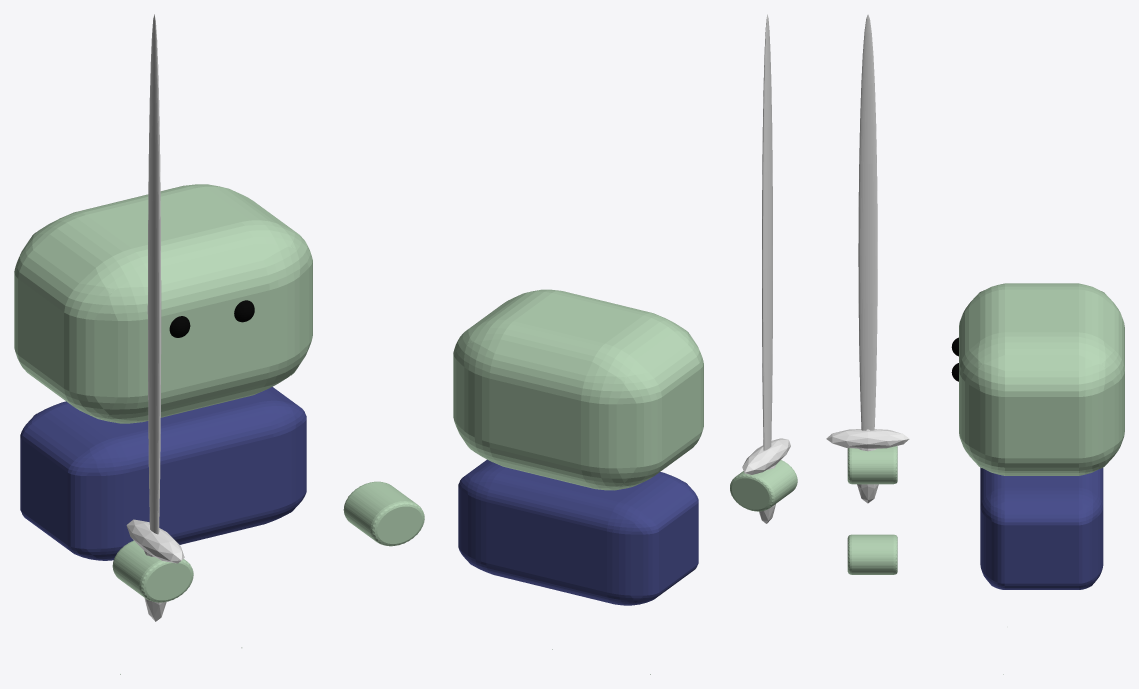
File: Bob.fbx
The picture shows the model from 3 angles, left to right: view 1: azimuth 30°, elevation 25°; view 2: azimuth 150°, elevation 25°; view 3: azimuth 270°, elevation 25°; orthographic projection. The views are drawn at different scales.
Parts seen in each view (by area): view 1: Head, Torso, Sword_Blade, Hand_L, Hand_R, Sword_Handle; view 2: Head, Torso, Sword_Blade, Hand_R, Sword_Handle; view 3: Head, Torso, Sword_Blade, Hand_L, Hand_R, Sword_Handle.
Part boxes in pixels (x1=…): Head: x1=14, y1=184, x2=312, y2=423; Torso: x1=20, y1=387, x2=306, y2=560; Sword_Blade: x1=147, y1=14, x2=161, y2=534; Hand_L: x1=343, y1=481, x2=424, y2=546; Hand_R: x1=112, y1=540, x2=193, y2=602; Sword_Handle: x1=126, y1=519, x2=184, y2=621; Head: x1=453, y1=289, x2=703, y2=490; Torso: x1=458, y1=459, x2=698, y2=605; Sword_Blade: x1=762, y1=14, x2=772, y2=450; Hand_R: x1=730, y1=460, x2=797, y2=511; Sword_Handle: x1=742, y1=438, x2=790, y2=523; Head: x1=951, y1=283, x2=1124, y2=475; Torso: x1=980, y1=467, x2=1103, y2=589; Sword_Blade: x1=858, y1=14, x2=877, y2=430; Hand_L: x1=847, y1=534, x2=897, y2=574; Hand_R: x1=847, y1=446, x2=897, y2=484; Sword_Handle: x1=826, y1=429, x2=909, y2=503.
Bounding box in the file's own units: 182 × 450 × 205.
